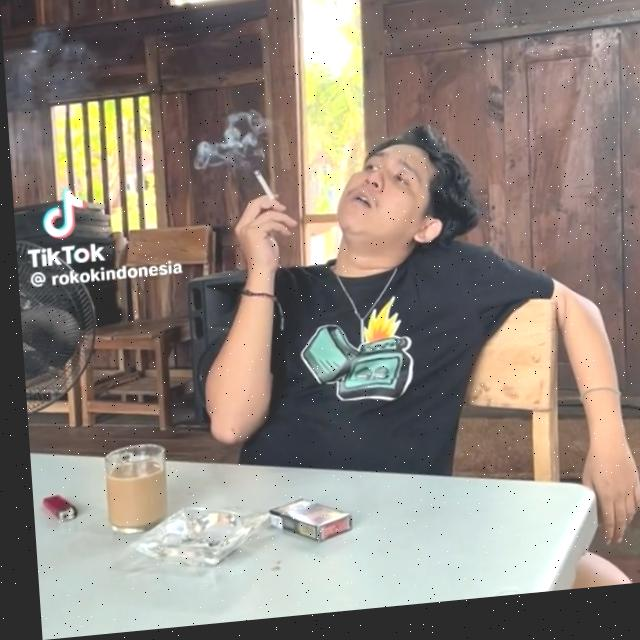cigarette: (250, 174, 272, 206)
